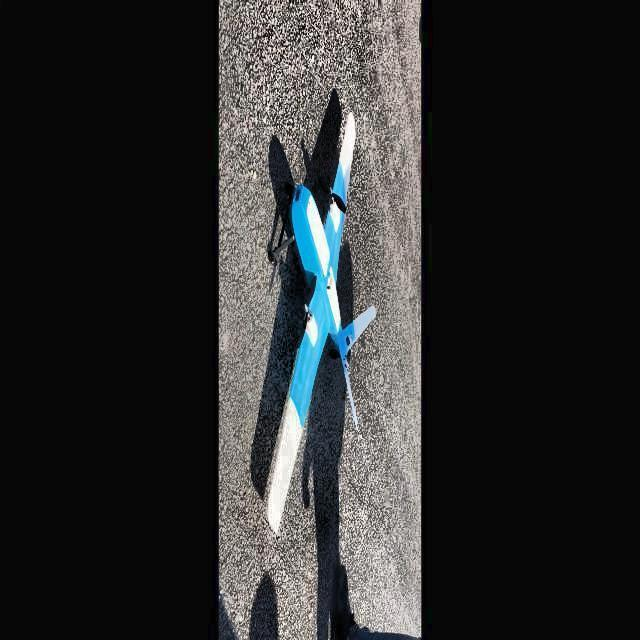iha: (233, 82, 408, 551)
